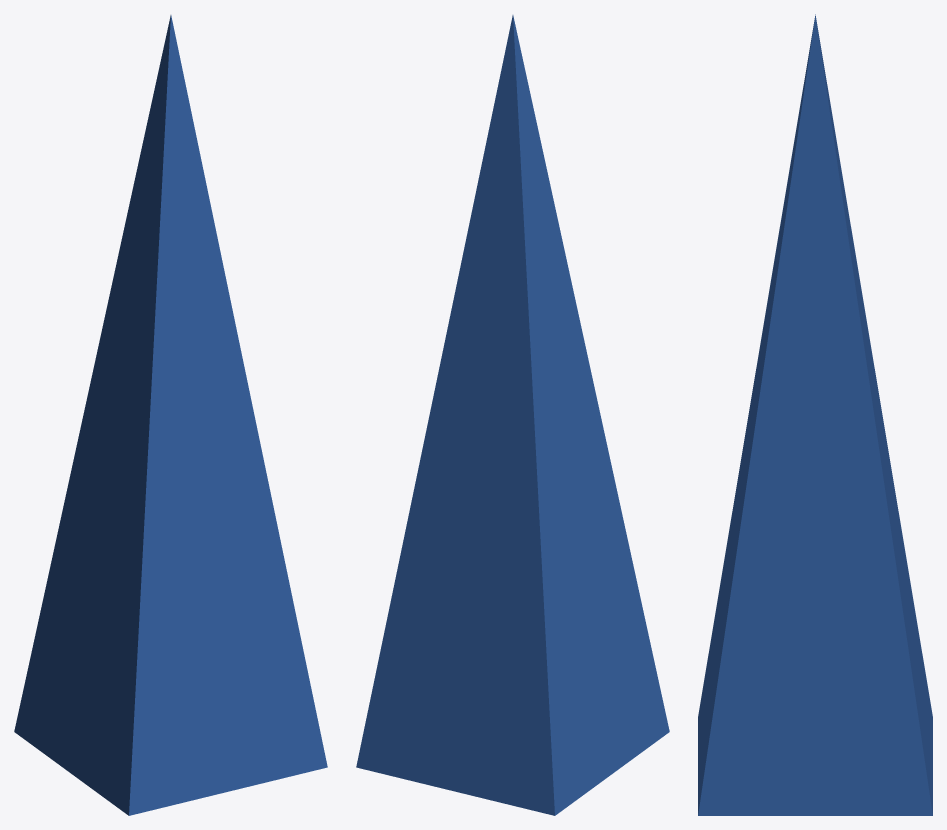
Rendered from Roof_001.fbx.
3 views of the same model, side by side, from view 1: azimuth 30°, elevation 25°; view 2: azimuth 150°, elevation 25°; view 3: azimuth 270°, elevation 25° (orthographic). The views are drawn at different scales.
Parts seen in each view (by area): view 1: Roof.001; view 2: Roof.001; view 3: Roof.001.
Part boxes in pixels (left/top/right/bottom): Roof.001: left=14, top=15, right=327, bottom=815; Roof.001: left=356, top=15, right=669, bottom=815; Roof.001: left=698, top=14, right=932, bottom=815.
Size of the model in its own units: 70.71 by 250 by 70.71.
